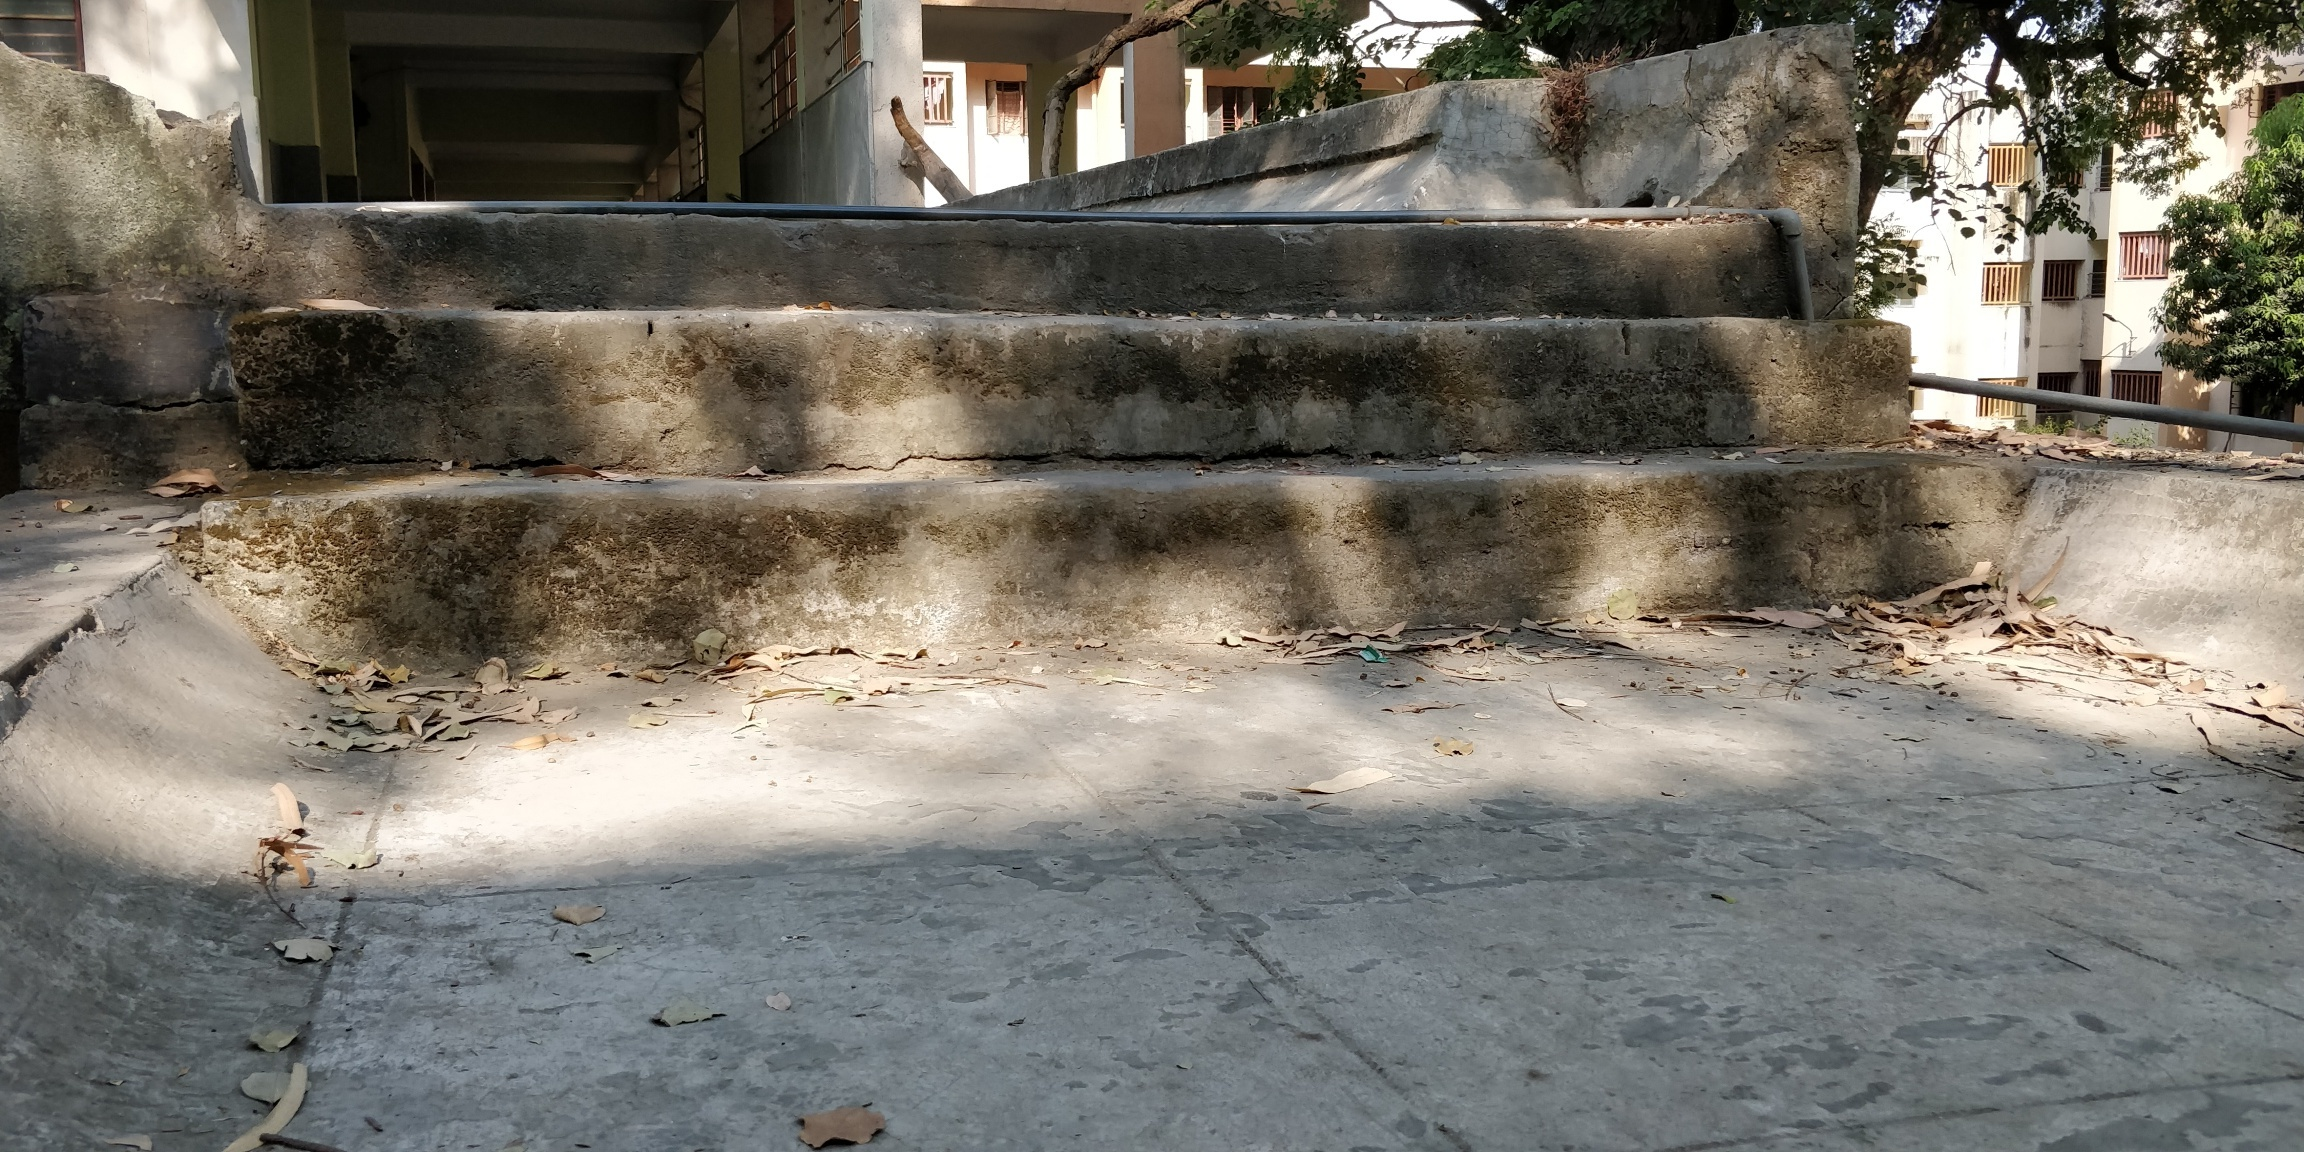stairs_up: (245, 192, 1992, 624)
